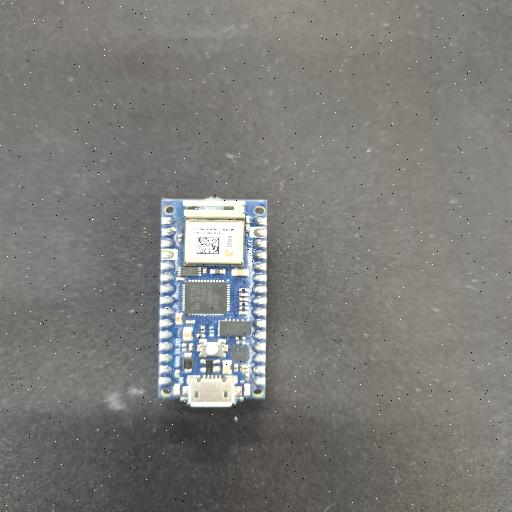arduino-nano-iot-33: (159, 198, 267, 407)
